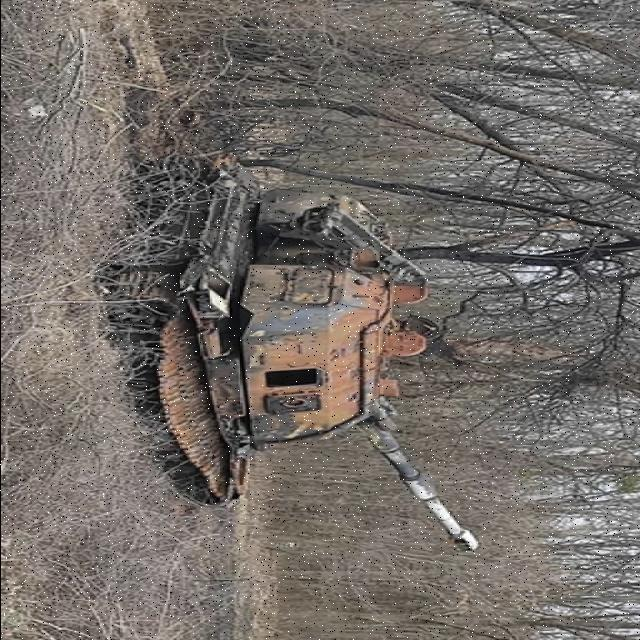ART: (107, 155, 489, 554)
